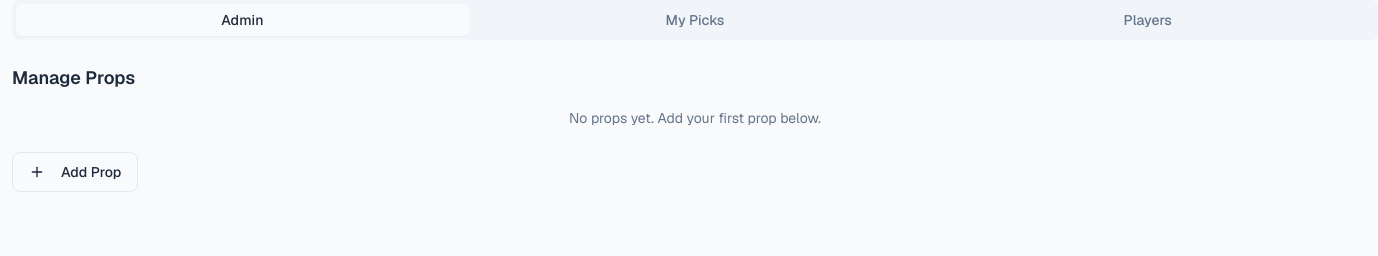
it: CaptainTabsClient › Players Tab › players list › shows Captain badge for captain player
Click the tab "Players" at (1148, 20), box [921,4,1374,36]
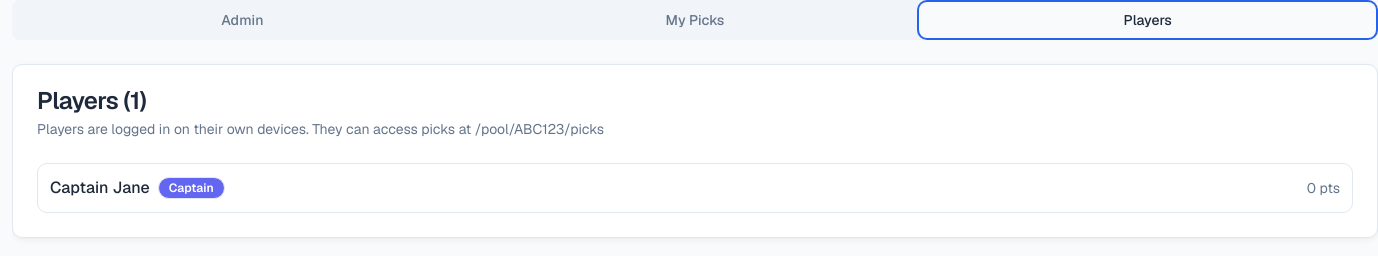
Expected: the text "Captain" is shown, [158,177,225,199]
